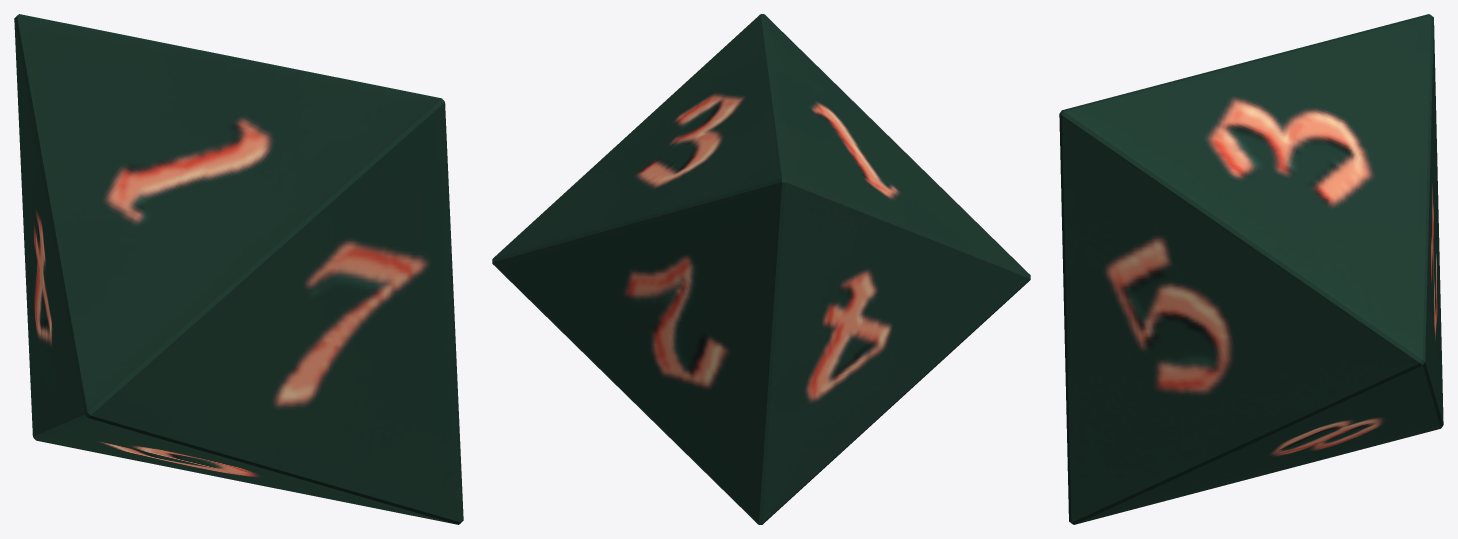
File: dice_8.fbx
3 renders of one model, left to right at view 1: azimuth 30°, elevation 25°; view 2: azimuth 150°, elevation 25°; view 3: azimuth 270°, elevation 25°, orthographic. The views are drawn at different scales.
Parts seen in each view (by area): view 1: Object.1; view 2: Object.1; view 3: Object.1.
Part boxes in pixels (x1,y1,x2,y2): Object.1: [14, 14, 463, 524]; Object.1: [492, 14, 1030, 524]; Object.1: [1059, 14, 1443, 524].
Bounding box in the file's own units: 794 × 681 × 581.
